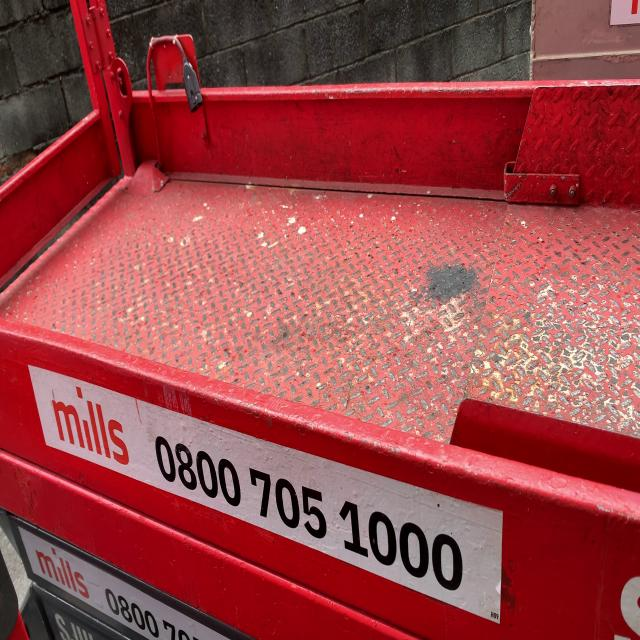Adesivo Longo: (22, 354, 511, 633)
